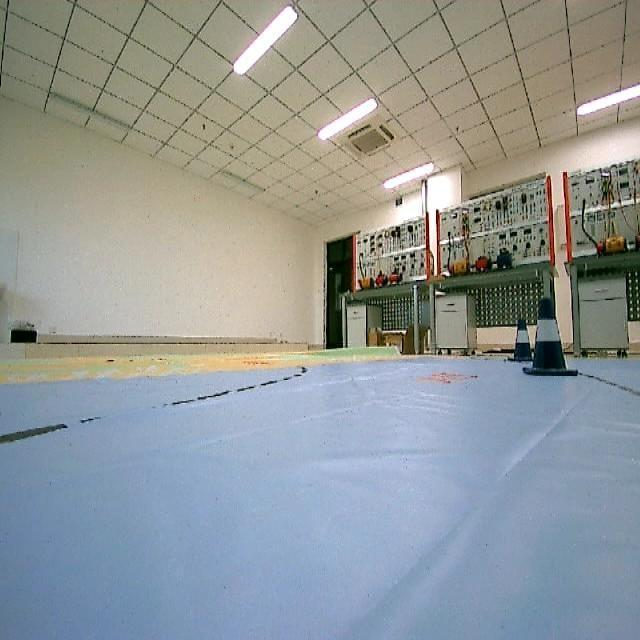obstacle: (526, 292, 580, 392), (510, 320, 534, 367)
